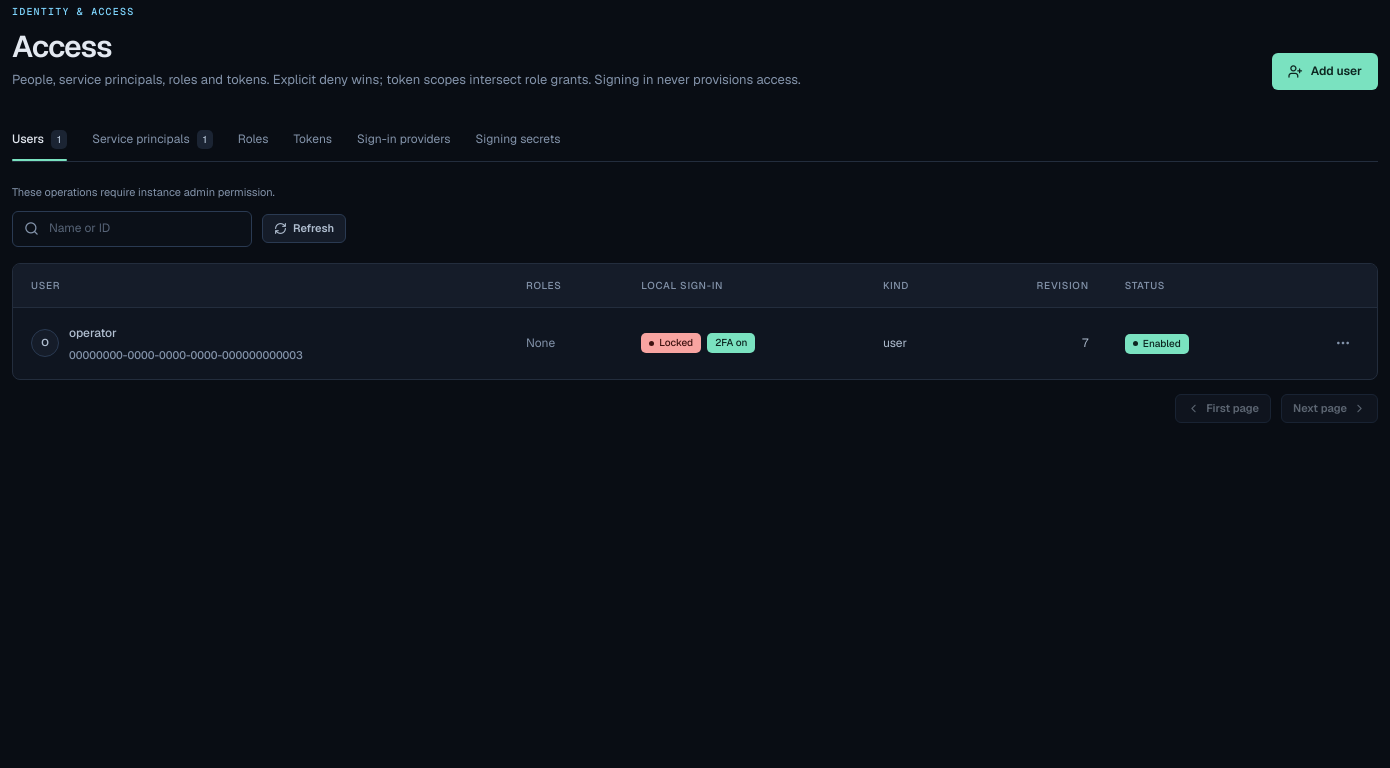
Scenario: resets a lost second factor
Check: the text "2FA on" is shown, box [707,333,756,353]
Click the button named "Actions for operator" at (1343, 343), box [1327,327,1359,359]
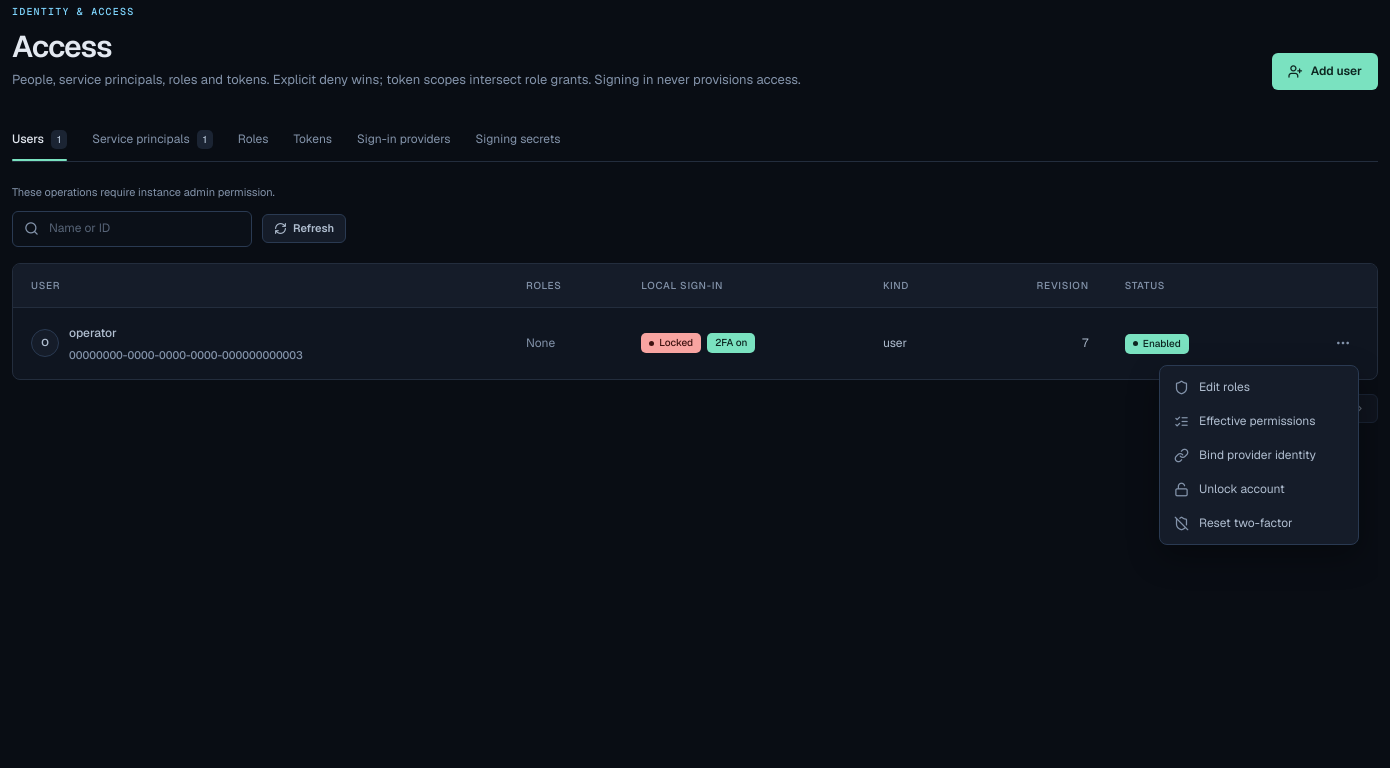
Click the menu item "Reset two-factor" at (1259, 523), box [1164,506,1354,540]
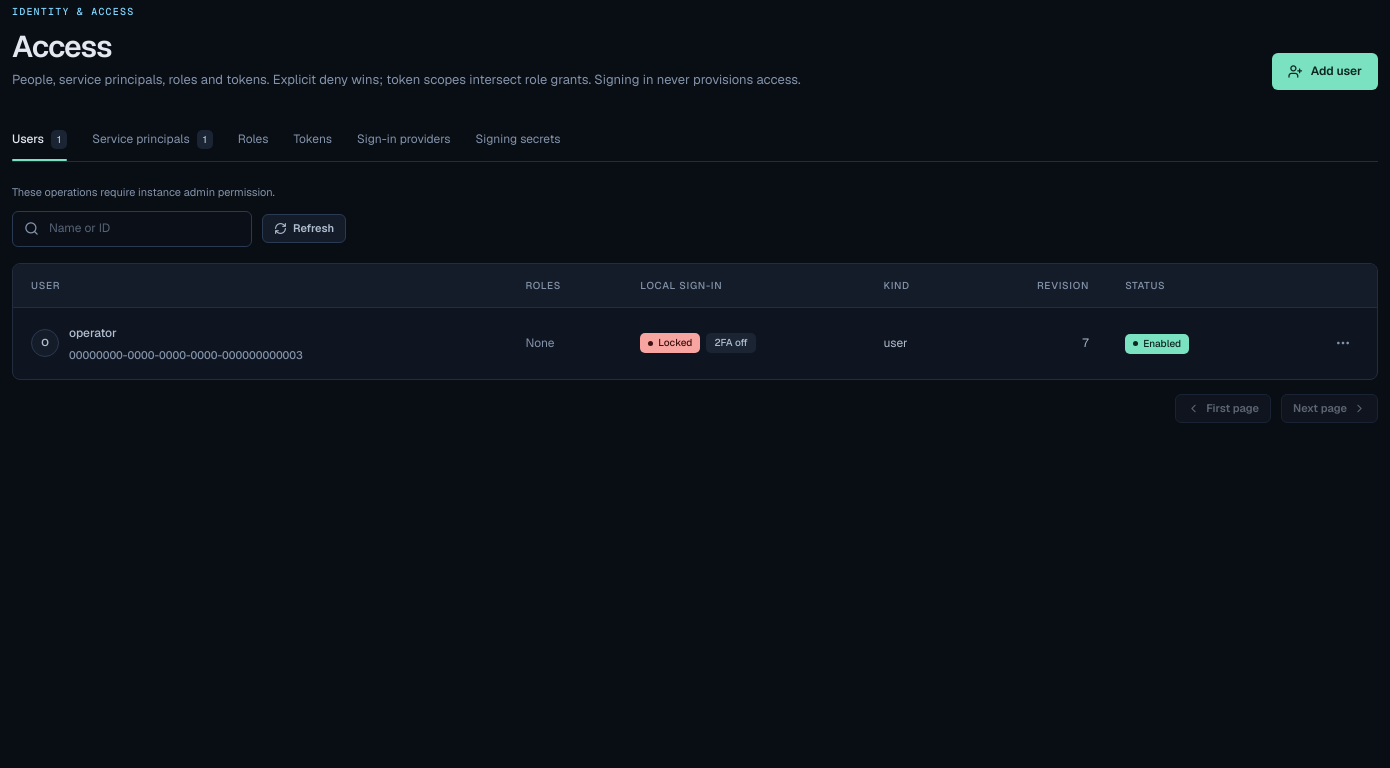
Check: the text "2FA off" is shown, box [706,333,756,353]
